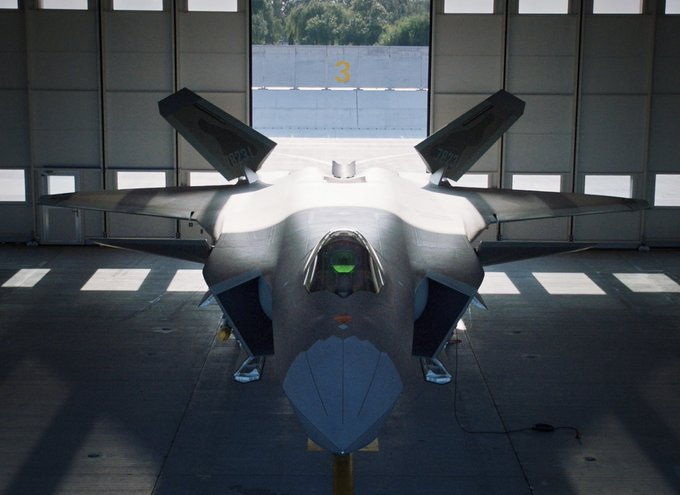J20: (35, 86, 653, 495)
